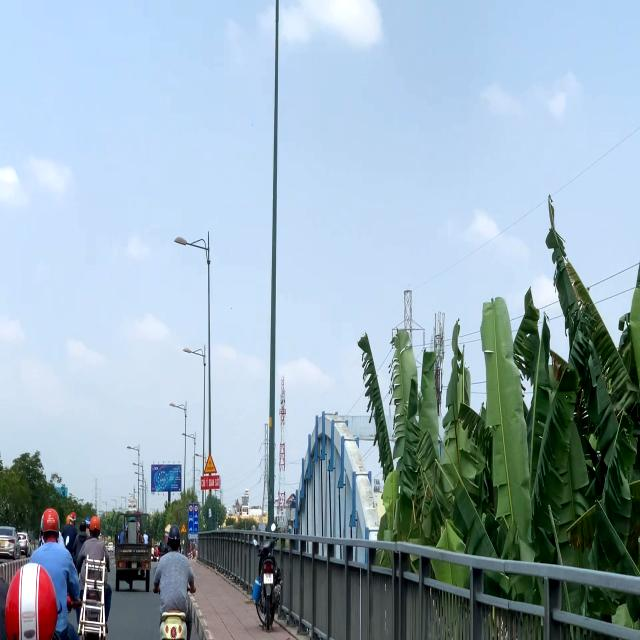W.245a: (204, 453, 218, 474)
